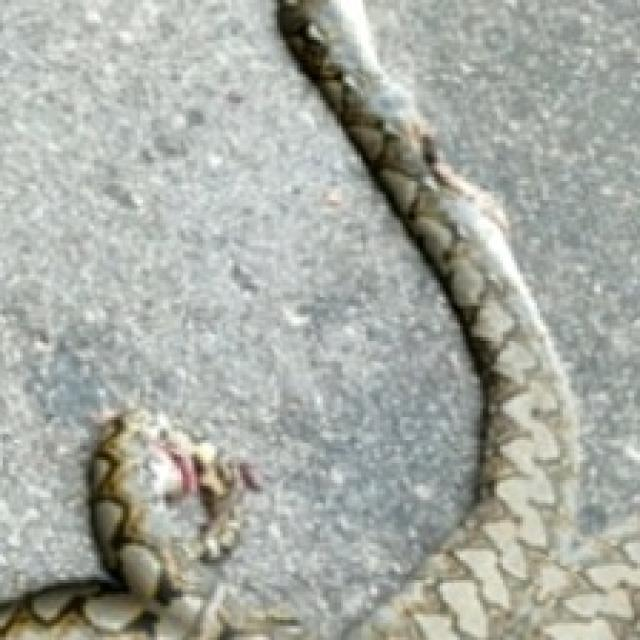reticulated python: (278, 0, 640, 639), (0, 409, 328, 640)
